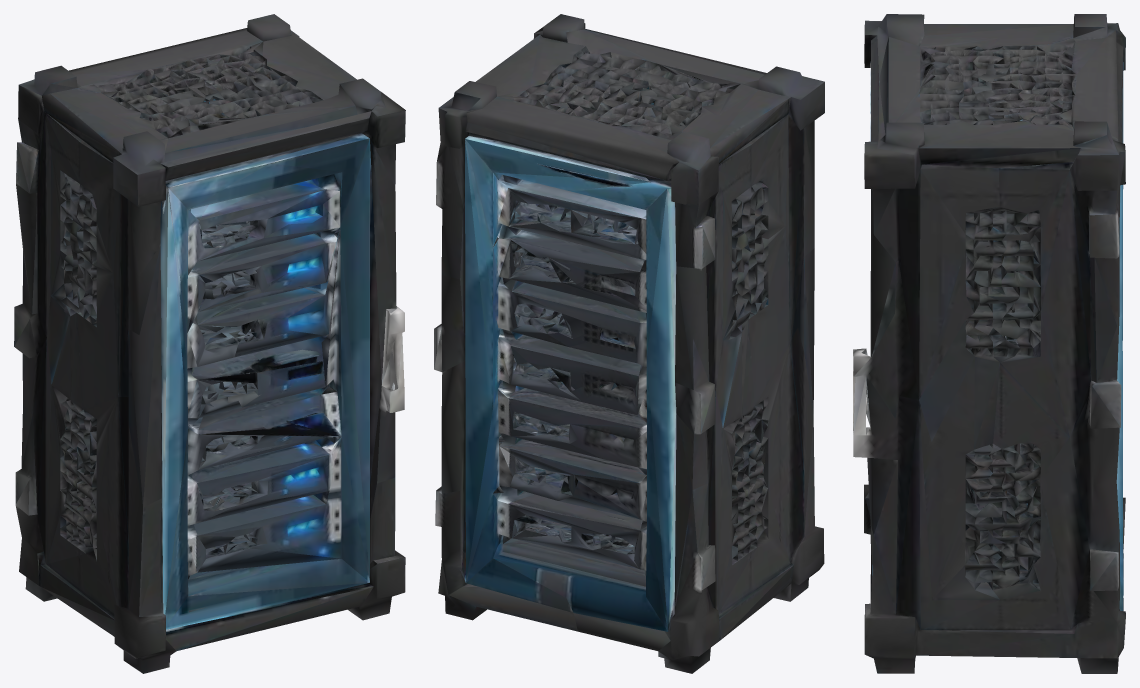
The model's file is server_rack.glb.
The picture shows the model from 3 angles, left to right: view 1: azimuth 30°, elevation 25°; view 2: azimuth 150°, elevation 25°; view 3: azimuth 270°, elevation 25°; orthographic projection. The views are drawn at different scales.
Size of the model in its own units: 1.08 by 2 by 0.9191.
Materials: 1 (1 with a texture image).
